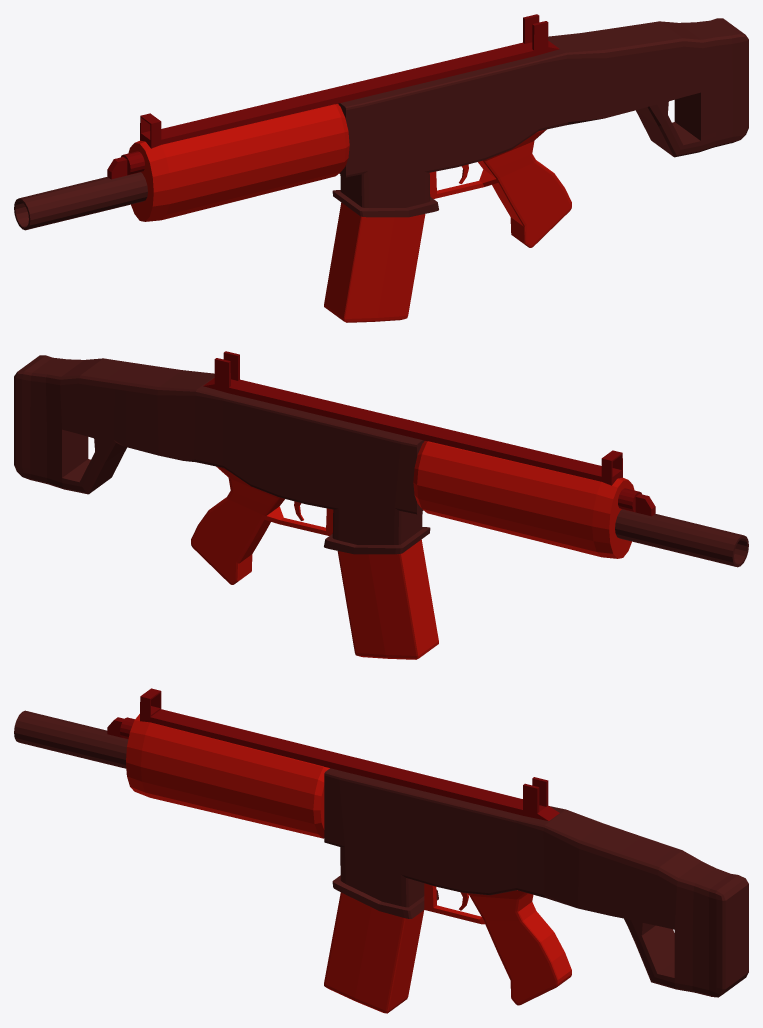
The model's file is HeavyRifle.fbx.
The picture shows the model from 3 angles, top to bottom: view 1: azimuth 30°, elevation 25°; view 2: azimuth 150°, elevation 25°; view 3: azimuth 330°, elevation 25°; orthographic projection.
Parts seen in each view (by area): view 1: Cube.001, Cylinder, Cube.002, Cube.003, Cube, Cylinder.001, Cylinder.002; view 2: Cube.001, Cylinder, Cube.002, Cube.003, Cube, Cylinder.001, Cylinder.002; view 3: Cube.001, Cylinder, Cube.002, Cube.003, Cube, Cylinder.001.
Boxes of the visible parts, bbox=[...] form: Cube.001: bbox=[332, 18, 748, 217]; Cylinder: bbox=[128, 104, 349, 221]; Cube.002: bbox=[324, 202, 425, 322]; Cube.003: bbox=[140, 14, 559, 148]; Cube: bbox=[429, 129, 571, 247]; Cylinder.001: bbox=[14, 172, 147, 230]; Cylinder.002: bbox=[107, 151, 144, 179]; Cube.001: bbox=[14, 355, 430, 554]; Cylinder: bbox=[413, 441, 634, 558]; Cube.002: bbox=[337, 539, 438, 659]; Cube.003: bbox=[203, 351, 622, 485]; Cube: bbox=[191, 466, 333, 584]; Cylinder.001: bbox=[615, 509, 748, 567]; Cylinder.002: bbox=[618, 488, 655, 516]; Cube.001: bbox=[324, 768, 748, 997]; Cylinder: bbox=[126, 714, 329, 838]; Cube.002: bbox=[324, 892, 424, 1013]; Cube.003: bbox=[140, 688, 559, 820]; Cube: bbox=[424, 883, 571, 1005]; Cylinder.001: bbox=[14, 710, 128, 768].
Size of the model in its own units: 357 by 124 by 28.24.
